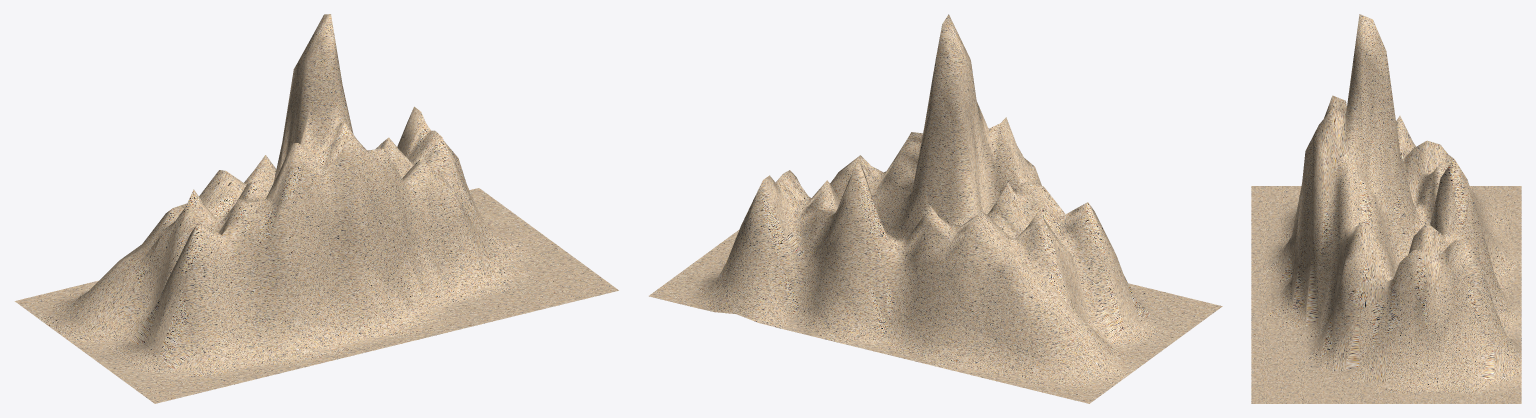
File: castilloArena.FBX
The picture shows the model from 3 angles, left to right: view 1: azimuth 30°, elevation 25°; view 2: azimuth 150°, elevation 25°; view 3: azimuth 270°, elevation 25°; orthographic projection. The views are drawn at different scales.
Parts seen in each view (by area): view 1: Plane001; view 2: Plane001; view 3: Plane001.
Part boxes in pixels (left/top/right/bottom): Plane001: left=14, top=14, right=618, bottom=403; Plane001: left=648, top=14, right=1222, bottom=403; Plane001: left=1251, top=14, right=1521, bottom=403.
Size of the model in its own units: 2155 by 1129 by 1295.
Materials: 1 (1 with a texture image).
